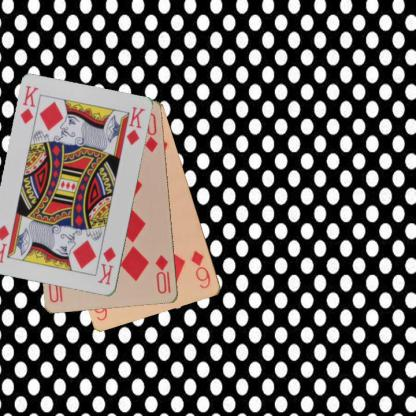10d: (153, 252, 172, 296)
6d: (189, 248, 212, 290)
Kd: (96, 244, 118, 286), (18, 84, 40, 126)
